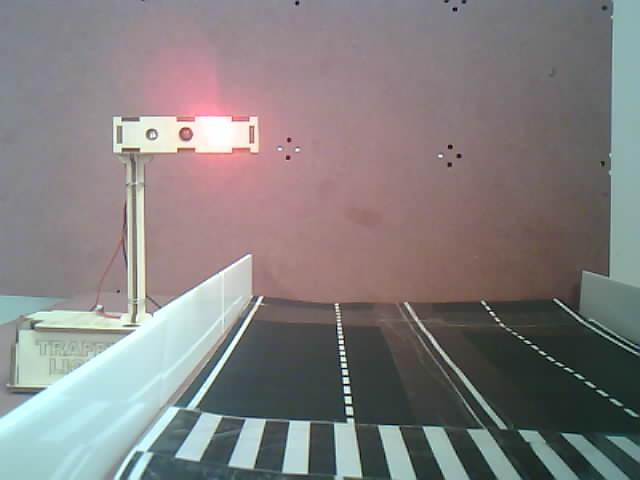crosswalk: (128, 401, 640, 480)
red: (108, 115, 280, 173)
